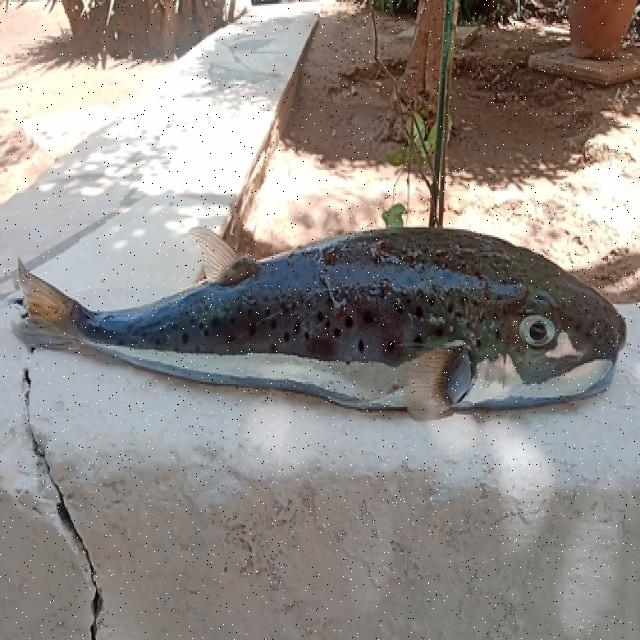Balik: (13, 228, 625, 418)
